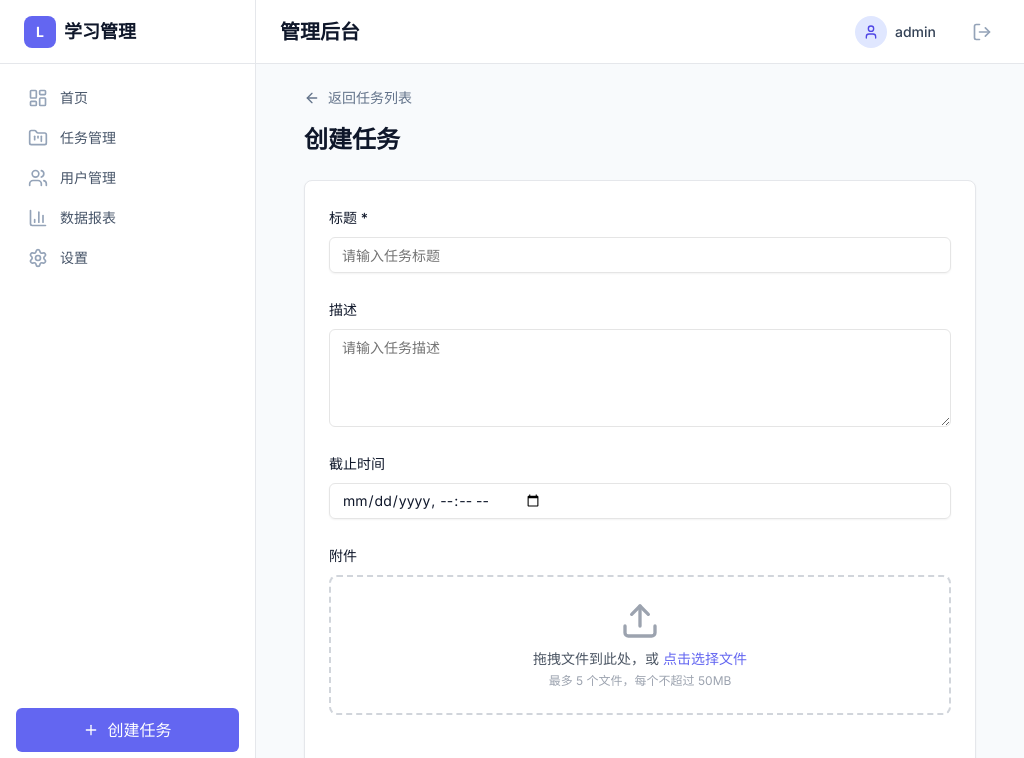
Scenario: CreateTaskPage › disables submit button during loading
Type "Test Task" into the field labelled "标题 *" at (640, 255), box [329, 237, 951, 273]
(page scrolled)
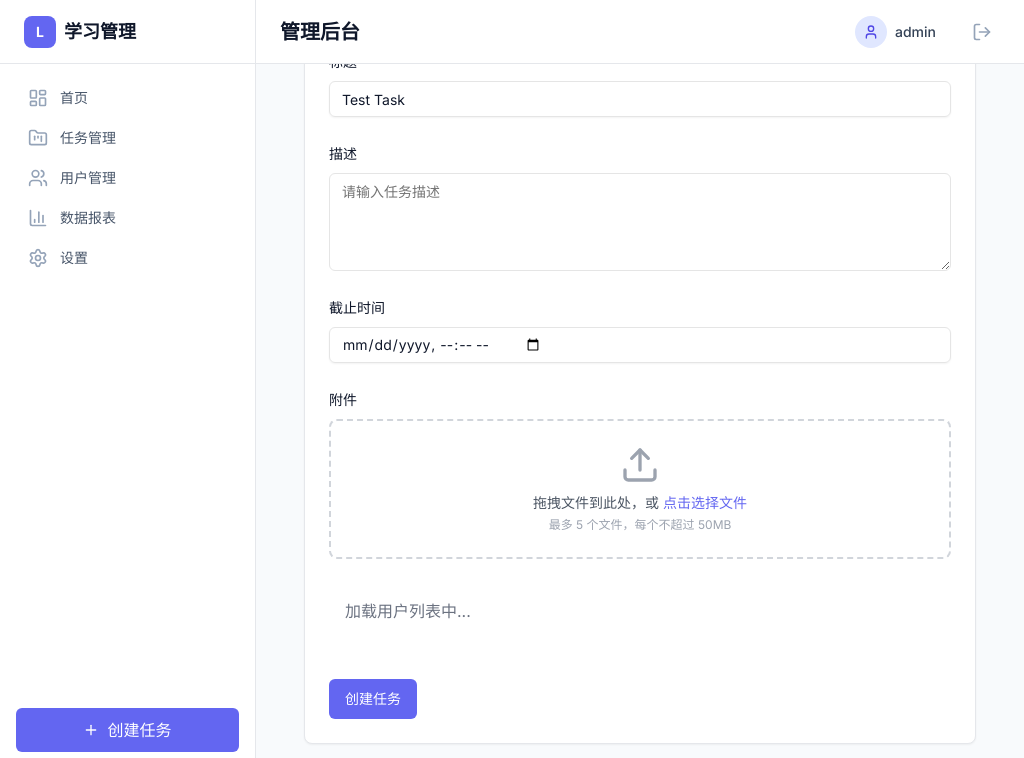
Click the button "创建任务" at (373, 699), box [329, 679, 417, 719]
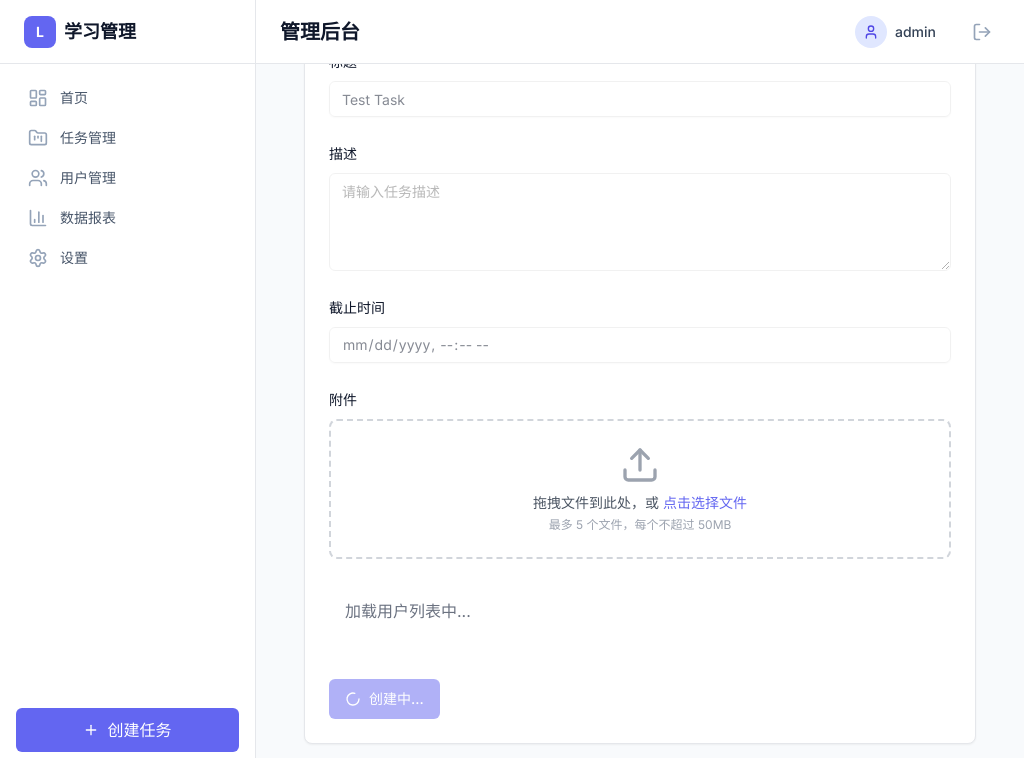
Check: the button named "创建任务" is disabled, box [329, 679, 440, 719]
